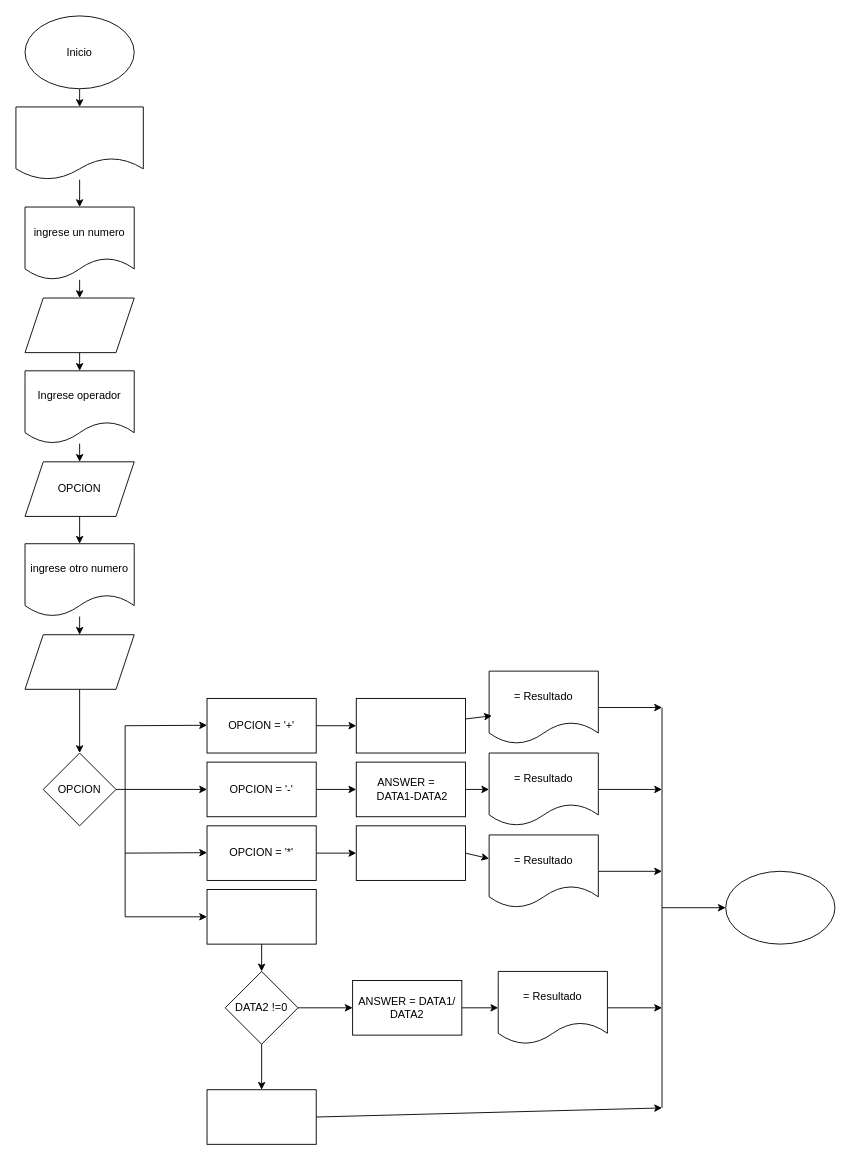
Image size: 851x1160. Some labels were removed from this diagram. The box of each missing label's shape, as (x1, y1, x2, y2) in pixels:
----Calculadora simple----: (15, 106, 143, 180)
ANSWER = DATA1*DATA2: (355, 825, 465, 880)
ANSWER = DATA1+DATA2: (355, 698, 465, 753)
DATA1: (24, 297, 134, 353)
DATA2: (24, 634, 134, 689)
FIN: (725, 870, 835, 944)
no es posible dividirlo entre 0: (206, 1089, 316, 1144)
OPCION = '/': (206, 889, 316, 944)
